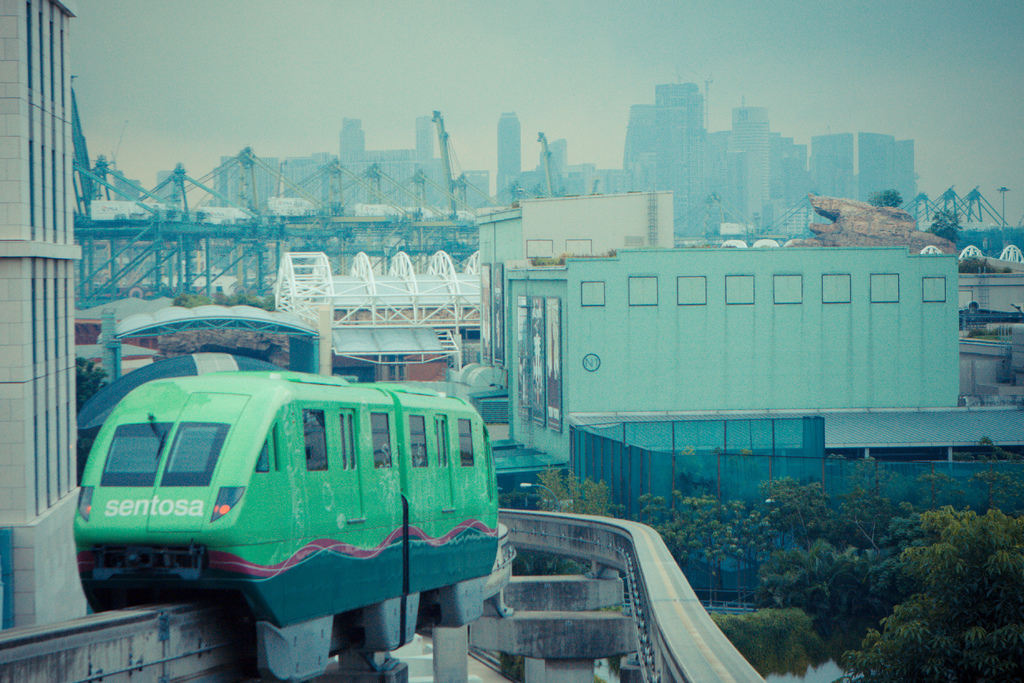train: (60, 369, 514, 675)
